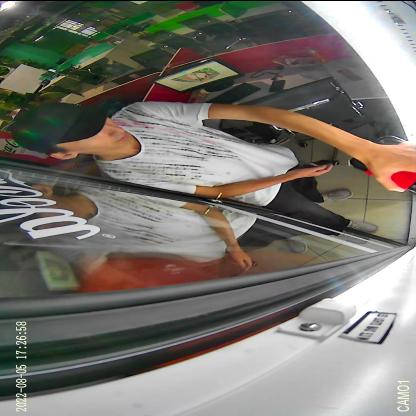red: (349, 134, 416, 192)
